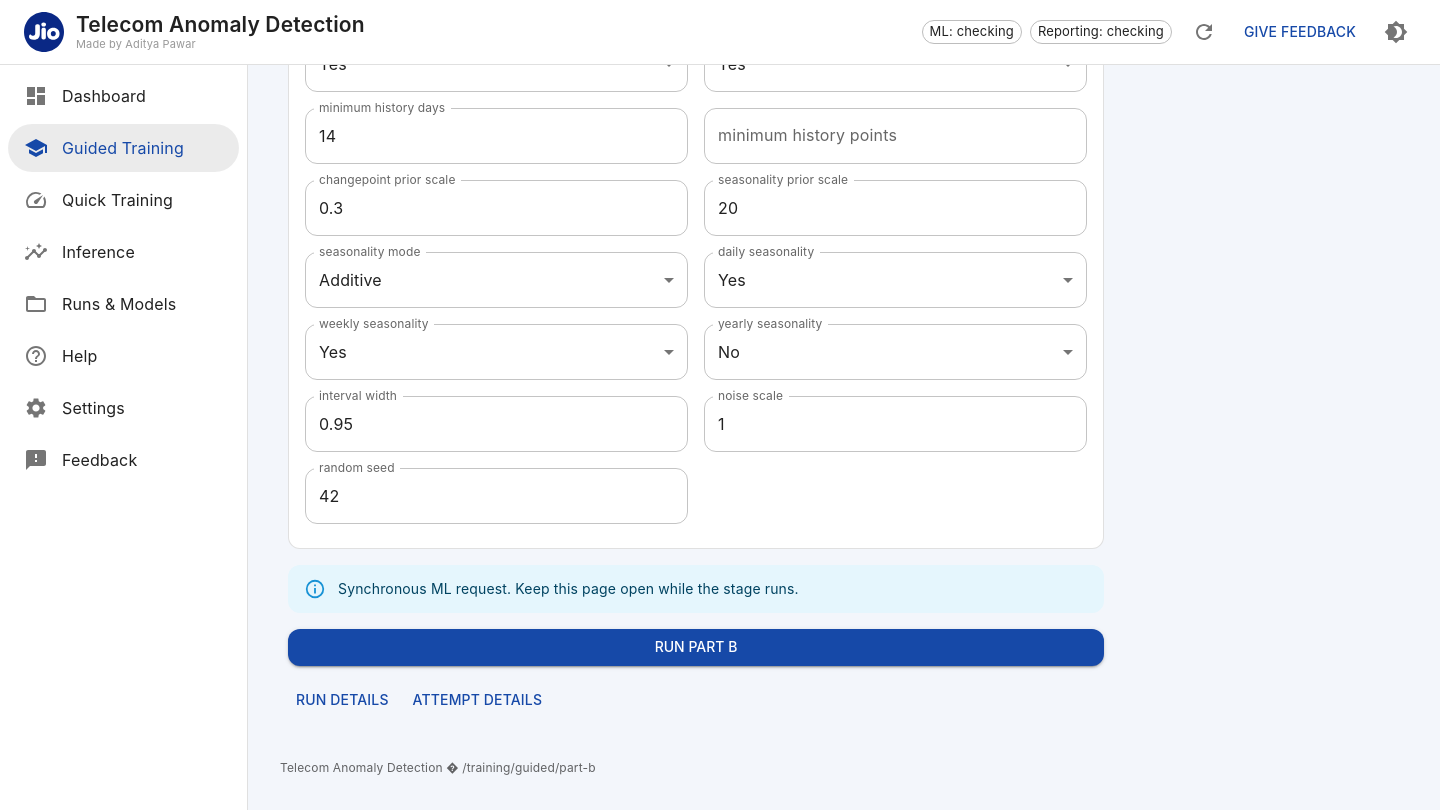
Scenario: Part B workspace › shows a completed response, IDs, execution, report and Part C continuation
(page scrolled)
Click the button "Run Part B".
click(696, 647)  # box [288, 629, 1104, 666]
(page scrolled)
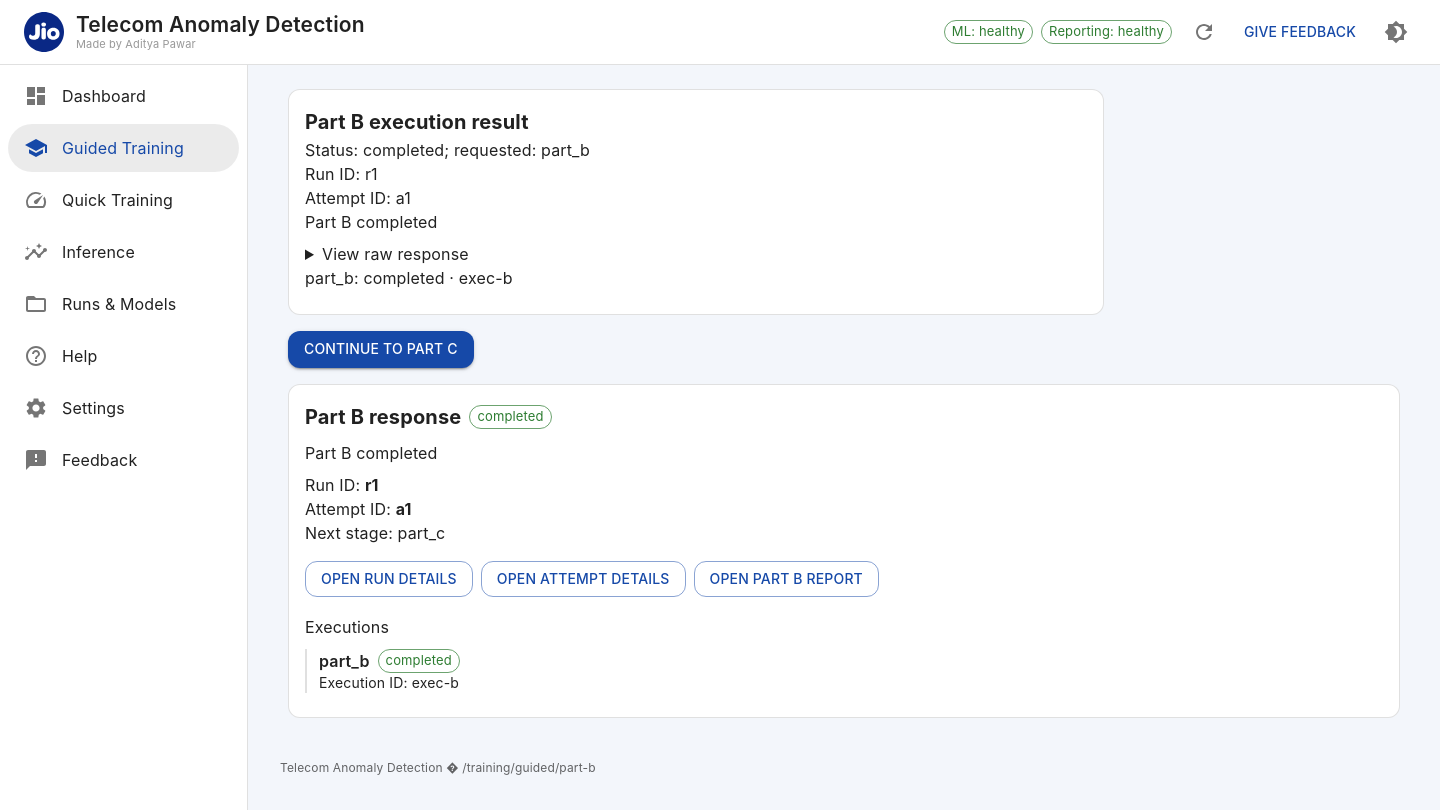
Now the text "Part B completed" below "Status:" is shown, box [305, 212, 438, 232]
Now the text "part_b: completed · exec-b" is shown, box [305, 268, 513, 288]
Now the text "Run ID: r1" is shown, box [305, 164, 378, 184]
